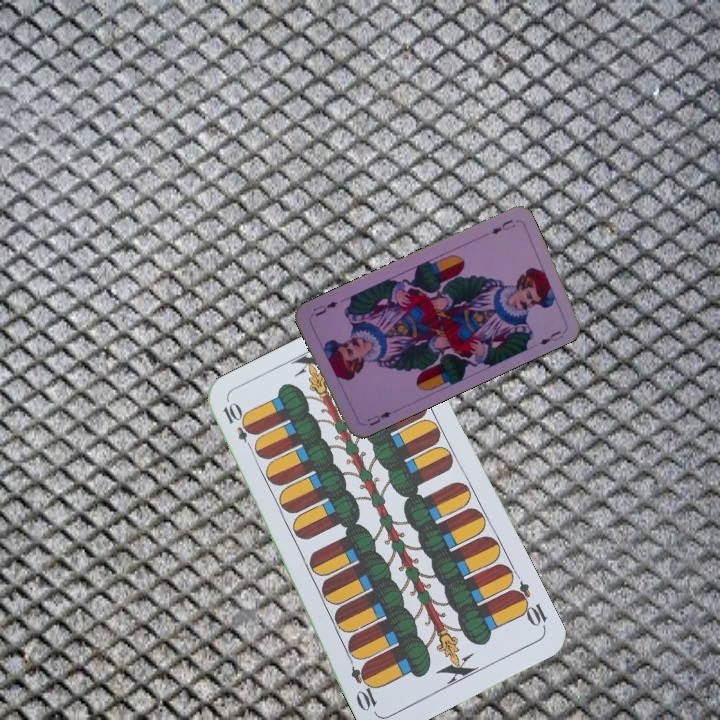E10: (507, 577, 550, 632), (219, 399, 258, 455)
EU: (363, 407, 394, 429), (487, 215, 517, 237)
